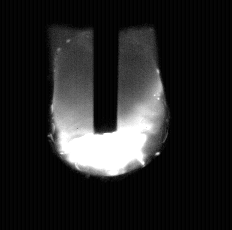arame: (94, 0, 119, 134)
poca: (56, 0, 163, 230)
